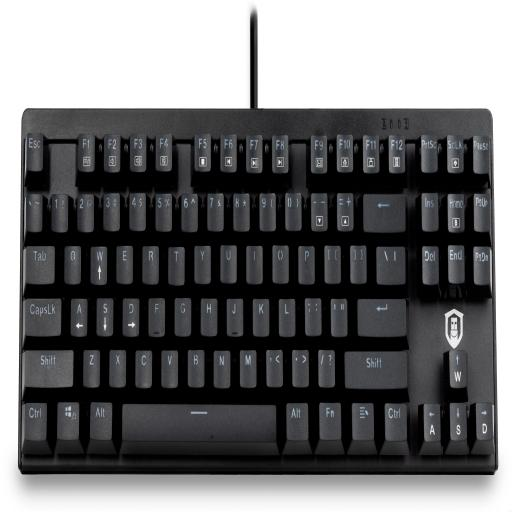KEYBOARD-2: (18, 103, 504, 479)
